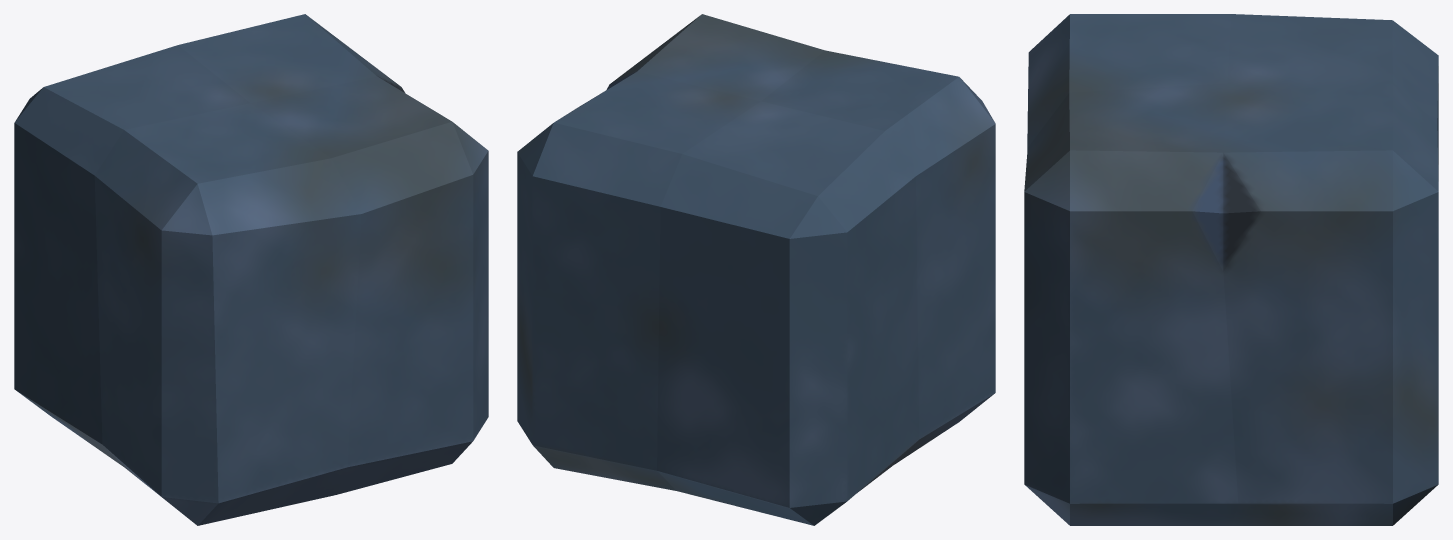
Rendered from Tetris_8 1.fbx.
3 renders of one model, left to right at view 1: azimuth 30°, elevation 25°; view 2: azimuth 150°, elevation 25°; view 3: azimuth 270°, elevation 25°, orthographic. The views are drawn at different scales.
Visible parts, largest first — view 1: Tetris_1.007; view 2: Tetris_1.007; view 3: Tetris_1.007.
Boxes of the visible parts, x1=… form: Tetris_1.007: x1=14, y1=14, x2=488, y2=525; Tetris_1.007: x1=517, y1=14, x2=995, y2=525; Tetris_1.007: x1=1024, y1=14, x2=1438, y2=525.
Size of the model in its own units: 200 by 200 by 200.
